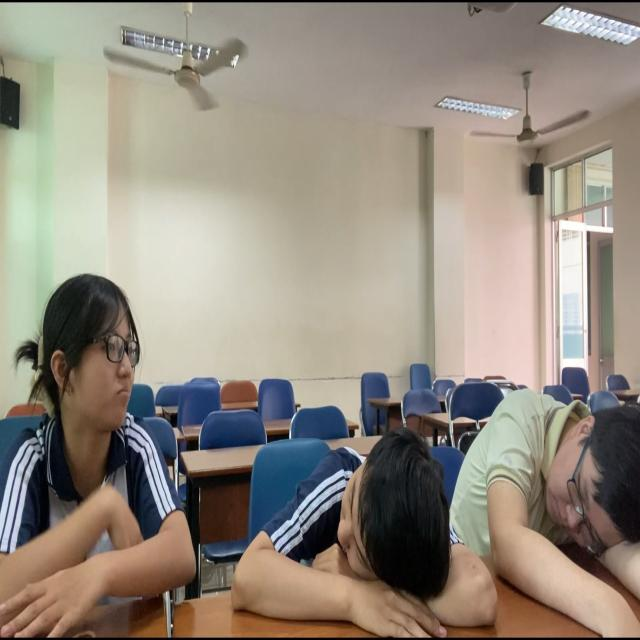sleep: (218, 398, 501, 636), (448, 381, 640, 640)
